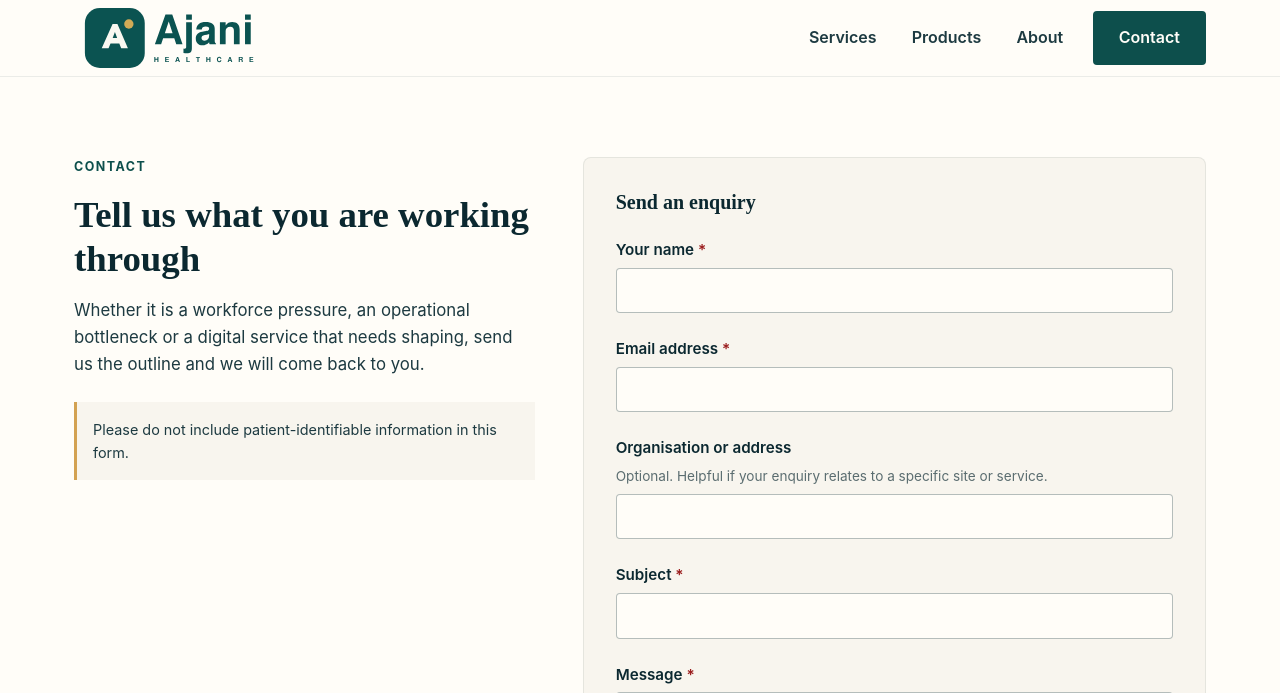
Test: form status rendering › rejects a malformed email address
This screenshot has width=1280, height=693.
Type "A Test" into the field labelled "Your name *" at {"x": 894, "y": 290}, box [616,268,1173,313]
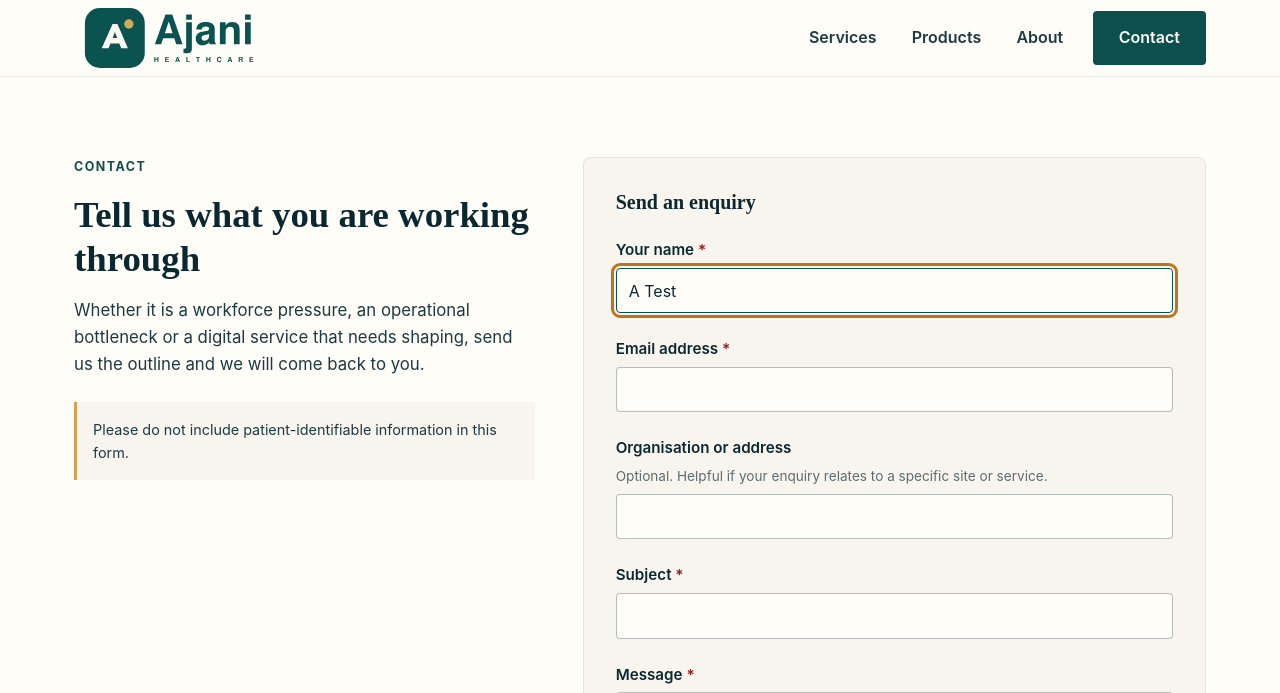
Type "invalid" into the field labelled "Email address *" at {"x": 894, "y": 390}, box [616,367,1173,412]
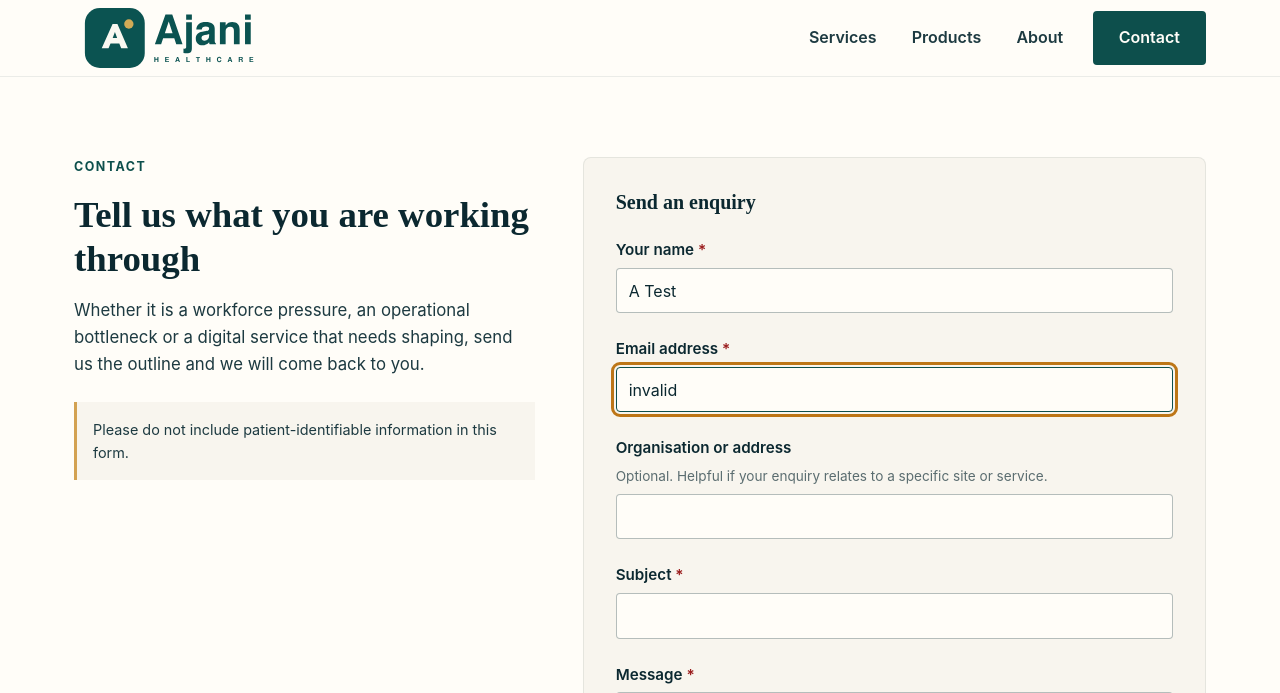
Type "S1" into the field labelled "Organisation or address" at {"x": 894, "y": 517}, box [616,494,1173,539]
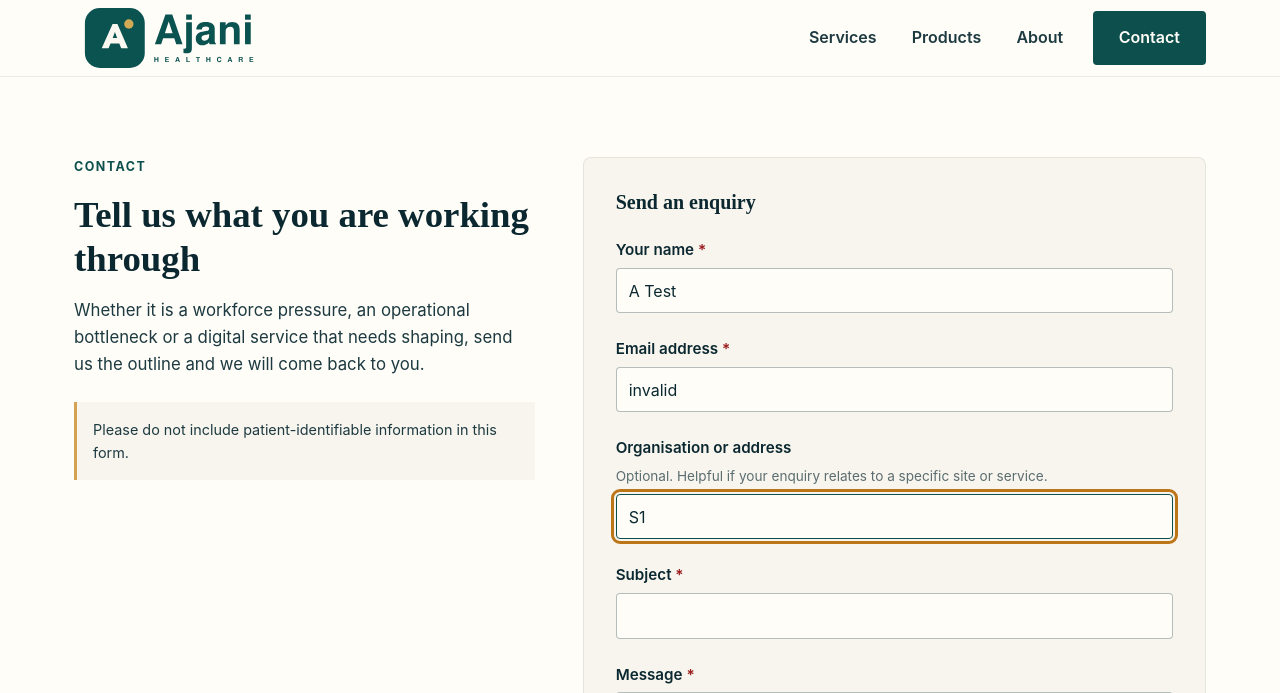
Type "Help" into the field labelled "Subject *" at {"x": 894, "y": 616}, box [616,593,1173,638]
(page scrolled)
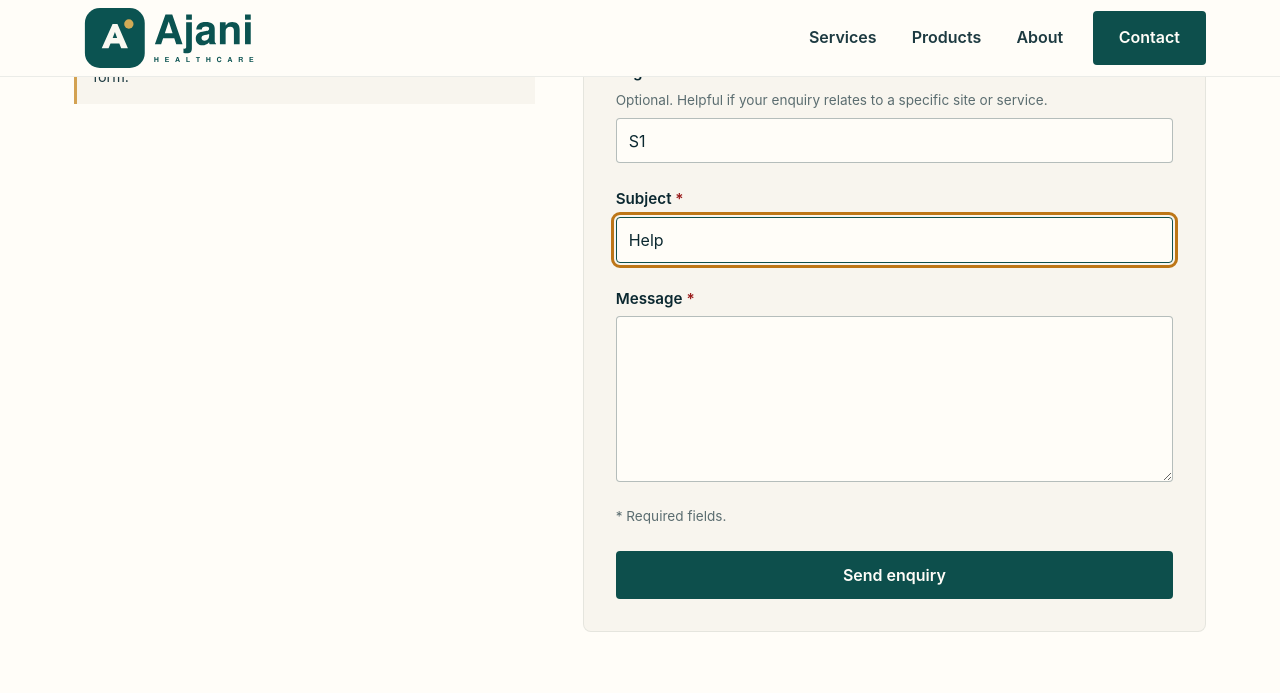
Type "Test enquiry" into the text box labelled "Message *" at {"x": 894, "y": 399}, box [616,316,1173,482]
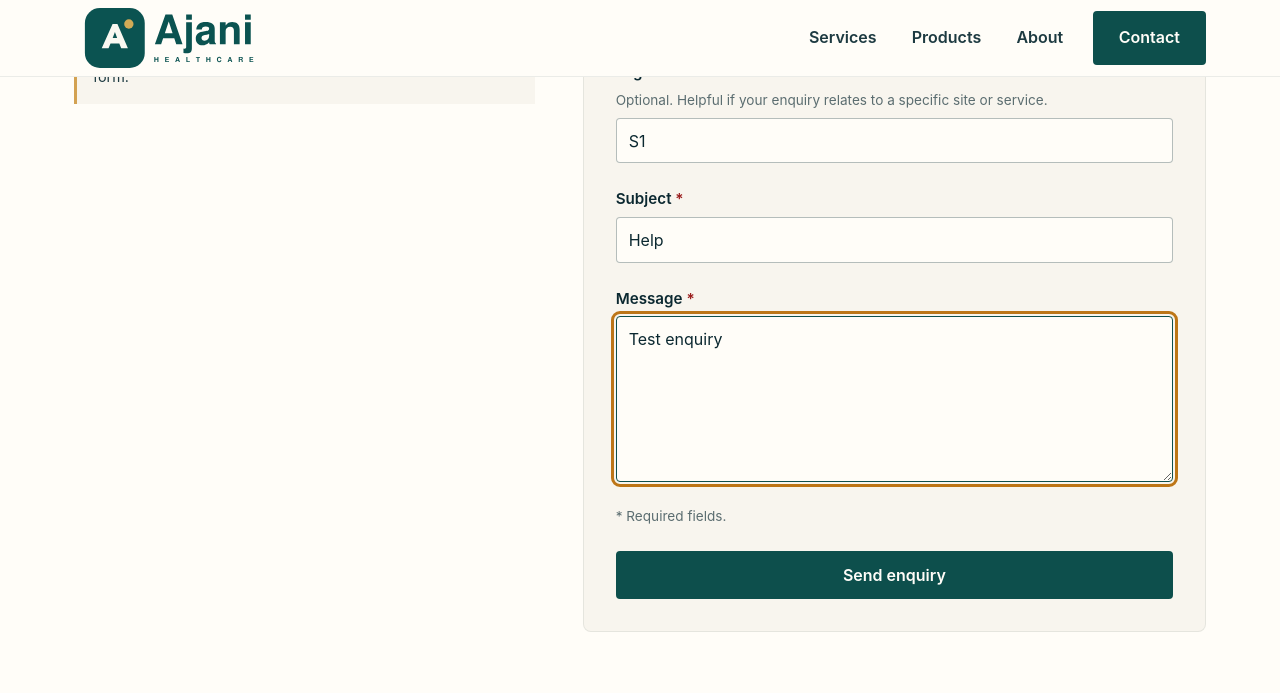
Click the button "Send enquiry" at {"x": 894, "y": 575}, box [616,551,1173,599]
(page scrolled)
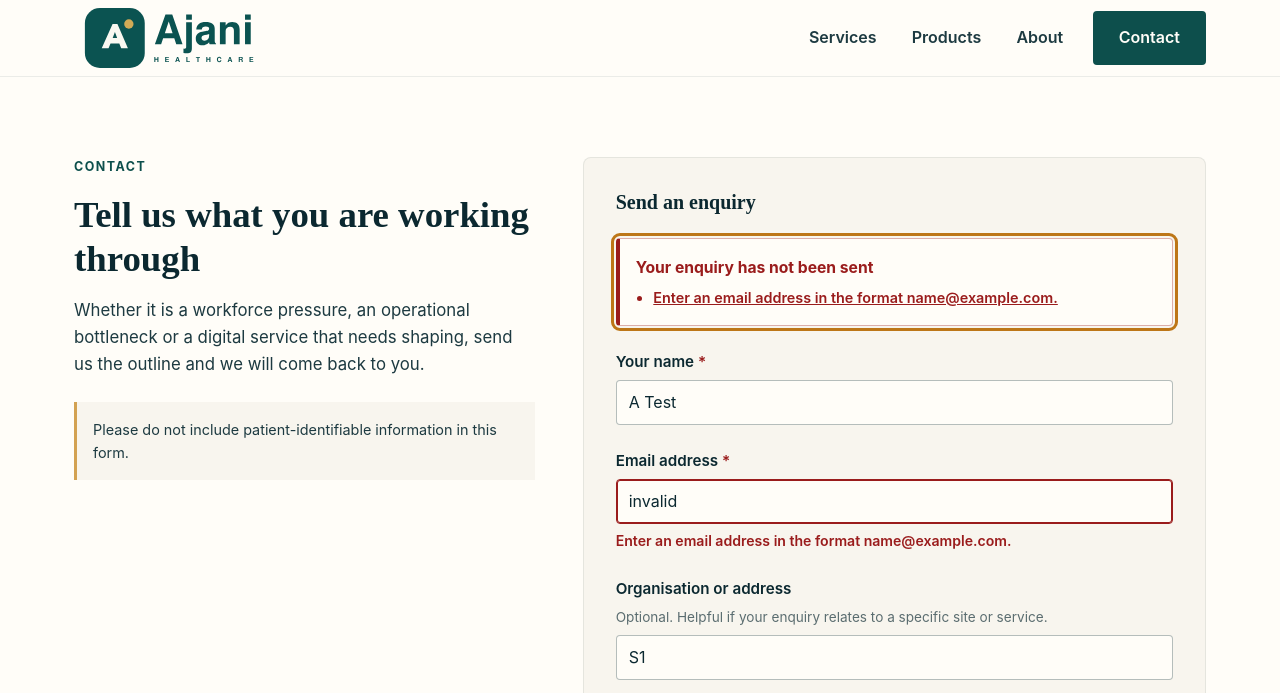
expect the message shows "name@example.com": met, box [653,289,1058,306]
